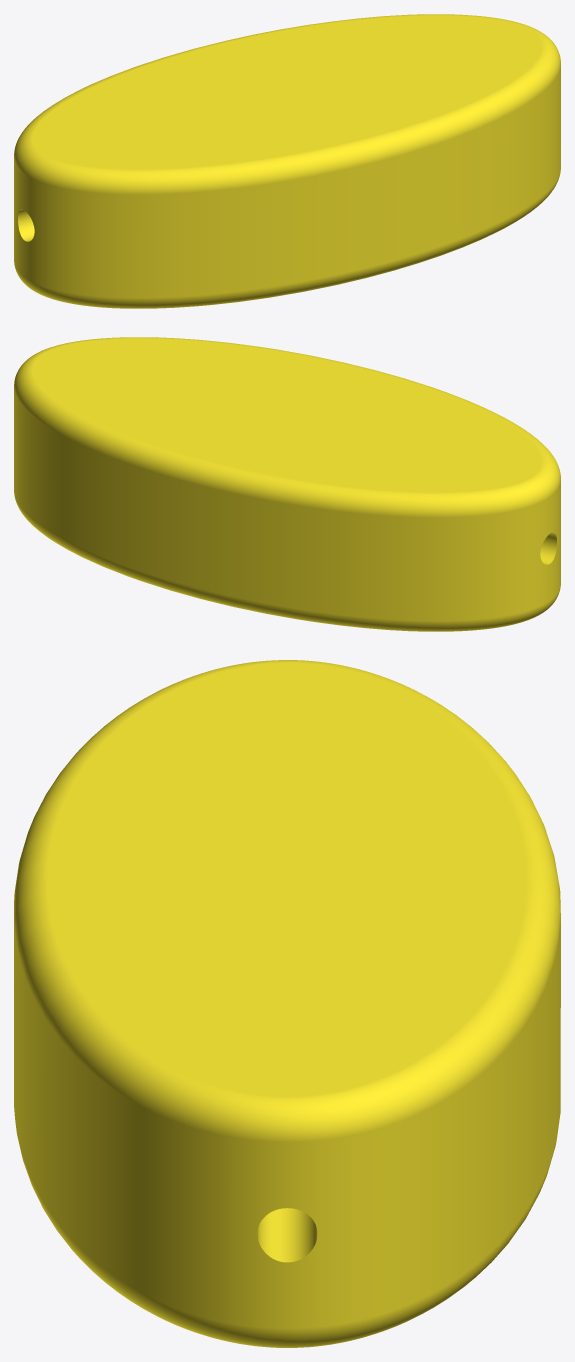
File: Ovaal geel big.glb
3 views of the same model, one above another, from view 1: azimuth 30°, elevation 25°; view 2: azimuth 150°, elevation 25°; view 3: azimuth 270°, elevation 25° (orthographic). The views are drawn at different scales.
Size of the model in its own units: 0.0365 by 0.00912 by 0.0182.
